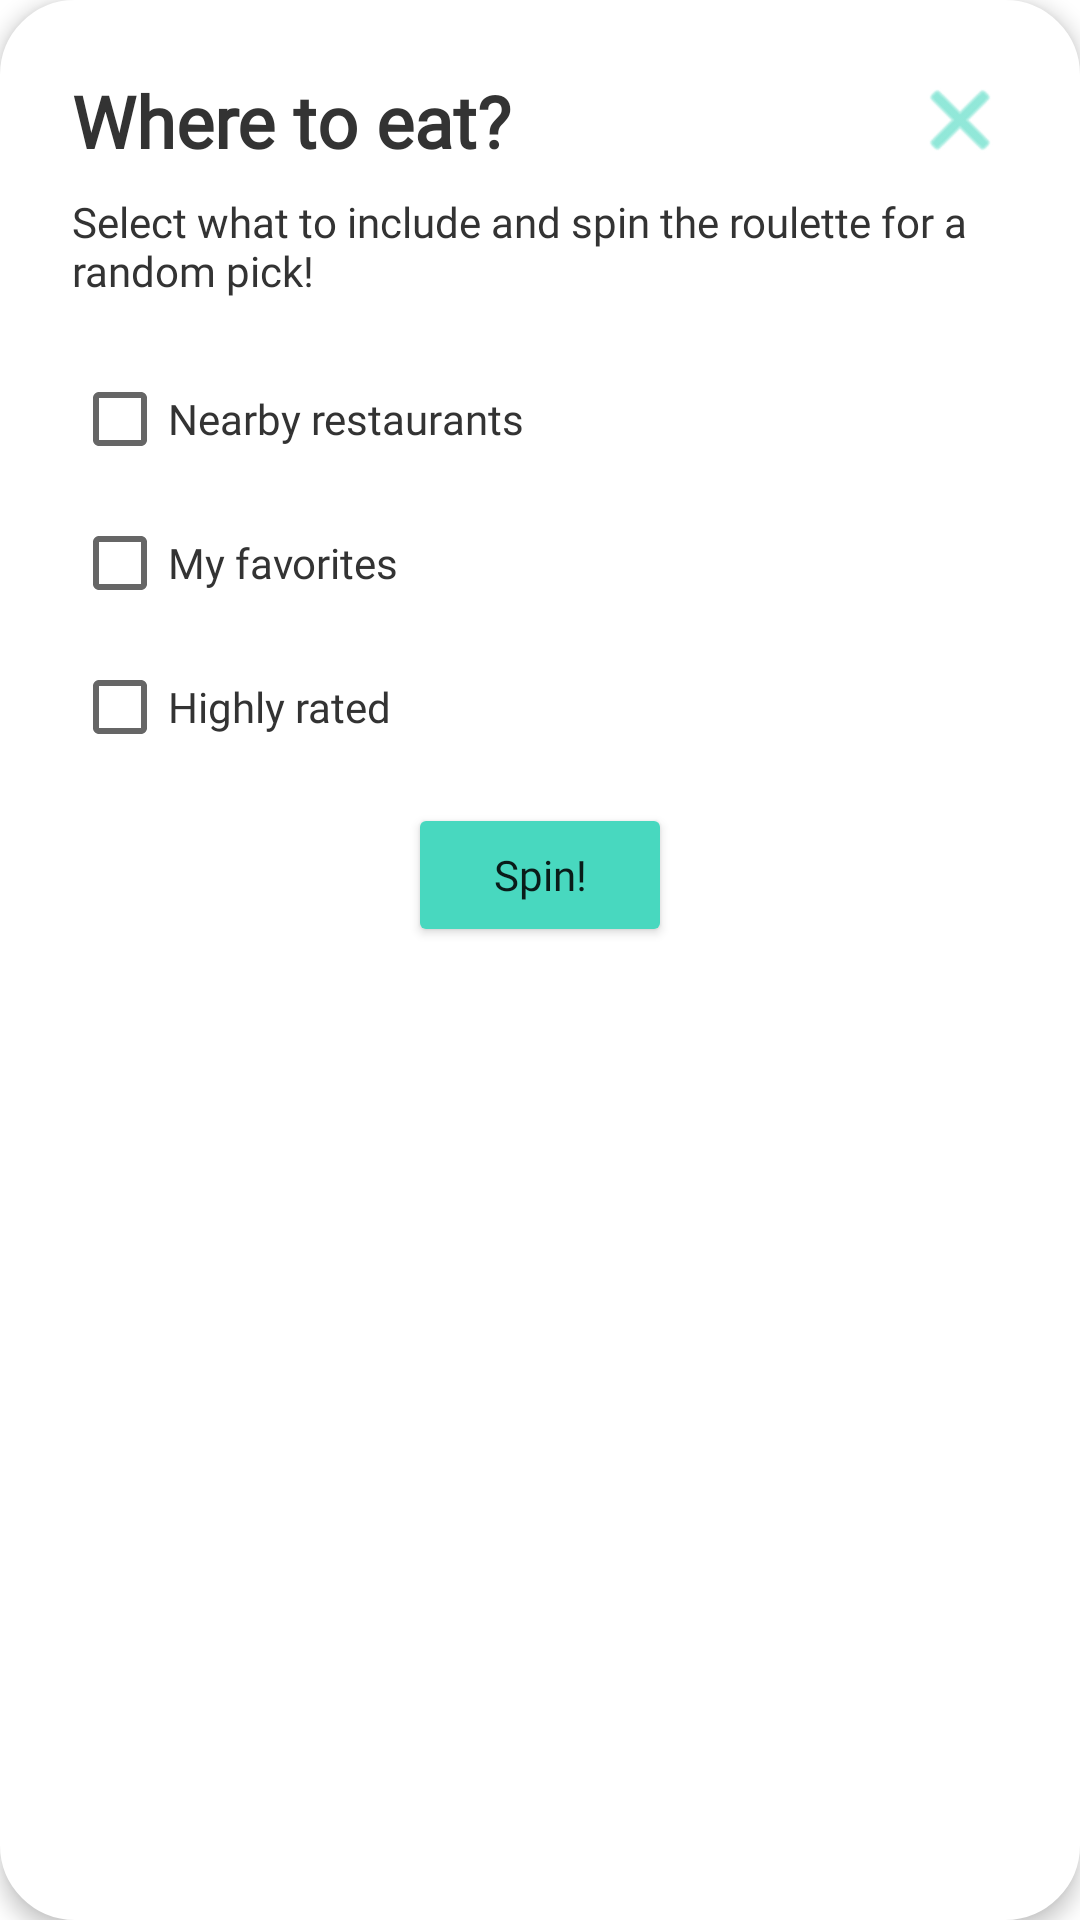

Icons on this 1080*1920 Android screen, each with the point to tap as (x=x, y=y):
close clear cancel: (x=960, y=120)
